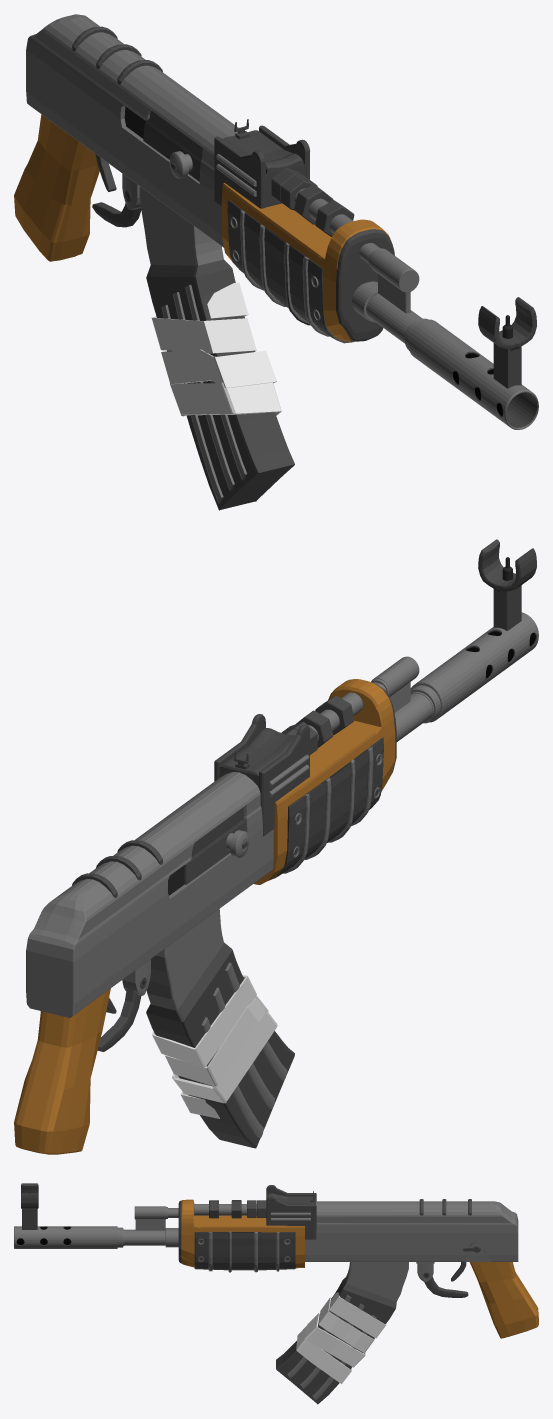
The model's file is RustAkMk2Stockless.fbx.
The picture shows the model from 3 angles, top to bottom: view 1: azimuth 30°, elevation 25°; view 2: azimuth 150°, elevation 25°; view 3: azimuth 270°, elevation 25°; orthographic projection. The views are drawn at different scales.
Visible parts, largest first — view 1: Cube; view 2: Cube; view 3: Cube.
Part boxes in pixels (x1,y1,x2,y2): Cube: (14,14,538,510); Cube: (14,539,538,1154); Cube: (14,1183,538,1404).
Bounding box in the file's own units: 53.79 × 286 × 644.
